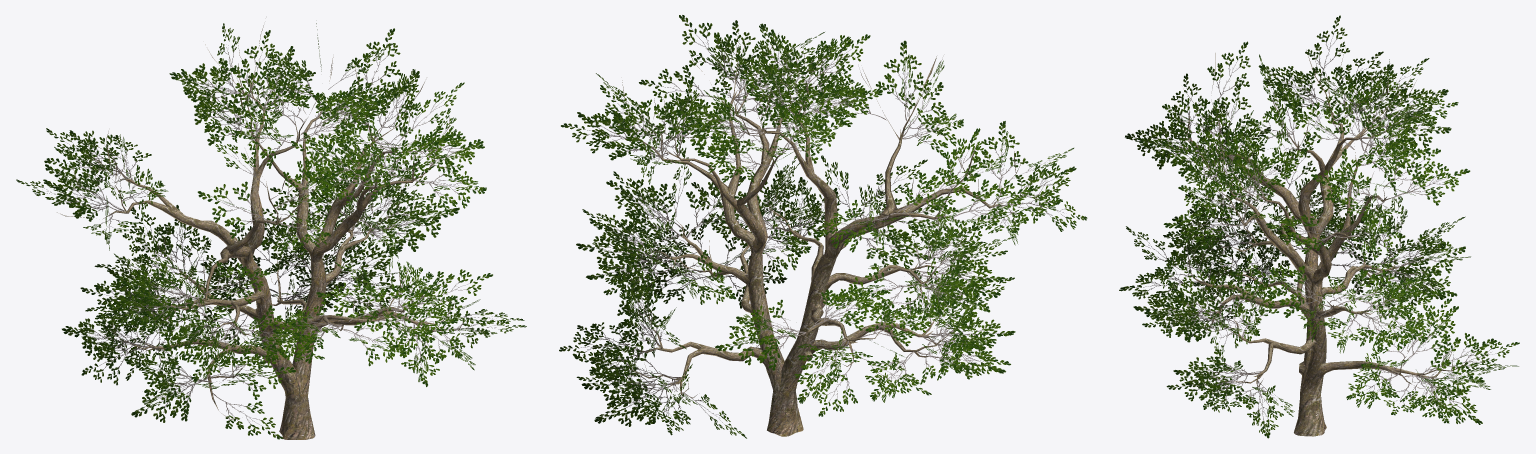
The model's file is oak.glb.
3 renders of one model, left to right at view 1: azimuth 30°, elevation 25°; view 2: azimuth 150°, elevation 25°; view 3: azimuth 270°, elevation 25°, orthographic. The views are drawn at different scales.
Parts seen in each view (by area): view 1: oak leaf_1, mossybark02_0; view 2: oak leaf_1, mossybark02_0; view 3: oak leaf_1, mossybark02_0.
Part boxes in pixels (bbox=[...]): oak leaf_1: bbox=[16, 23, 526, 439]; mossybark02_0: bbox=[57, 25, 462, 439]; oak leaf_1: bbox=[559, 15, 1087, 438]; mossybark02_0: bbox=[611, 33, 1061, 436]; oak leaf_1: bbox=[1119, 15, 1519, 438]; mossybark02_0: bbox=[1169, 50, 1472, 436].
Size of the model in its own units: 9.19 by 8 by 8.16.
Materials: 2 (2 with a texture image).
